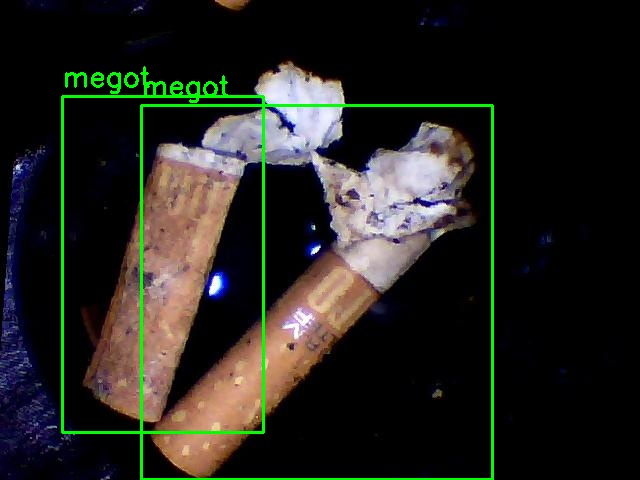megot: (141, 105, 492, 479), (62, 96, 263, 432)
